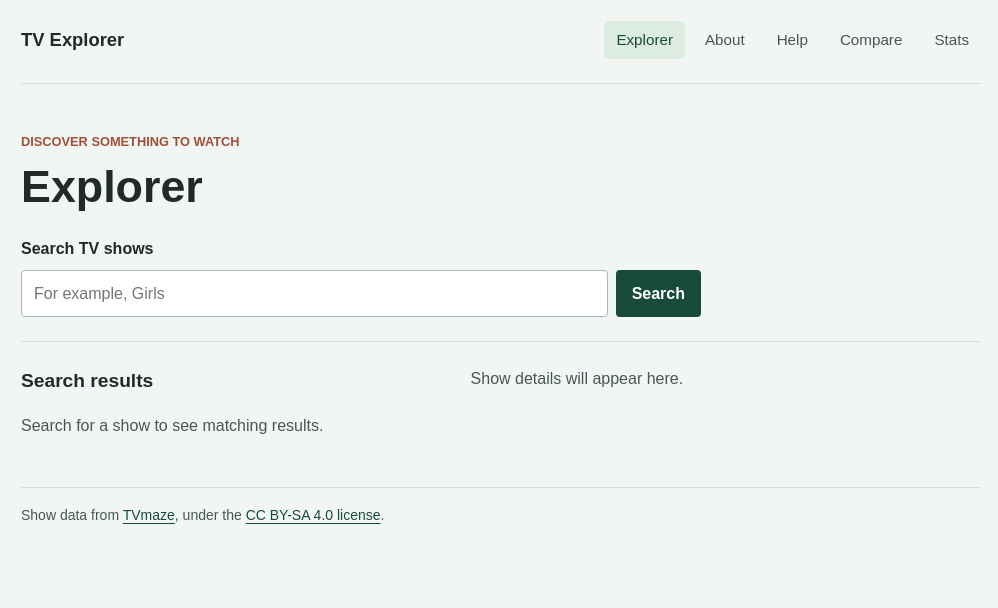
Test case: app navigation › keeps the query and results when navigating to About and back without another request
Type "girls" into the search field labelled "Search TV shows" at (314, 294), box top-left (21, 270), bottom-right (608, 318)
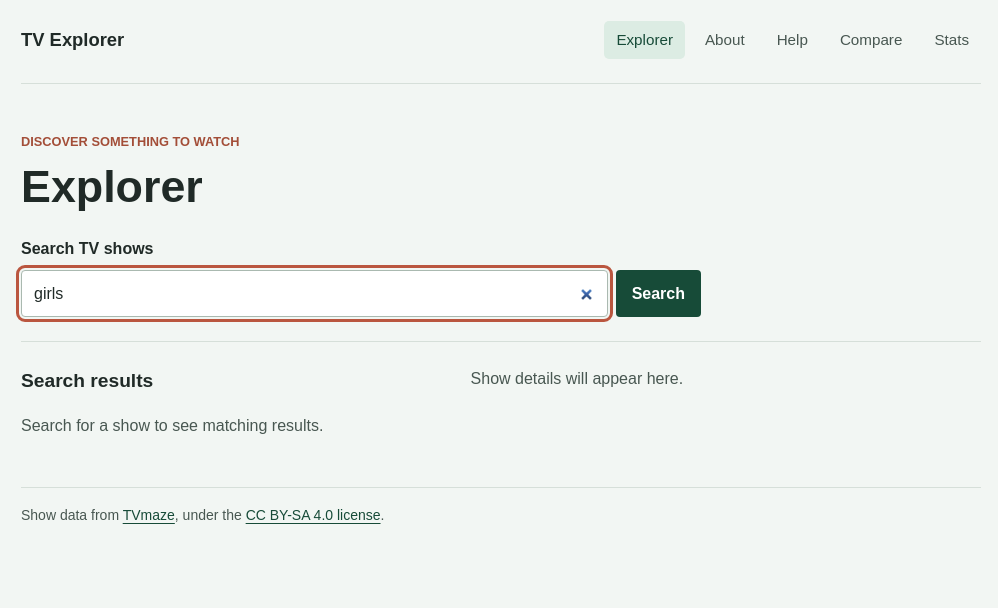
Click the button "Search" at (658, 294), box top-left (616, 270), bottom-right (701, 318)
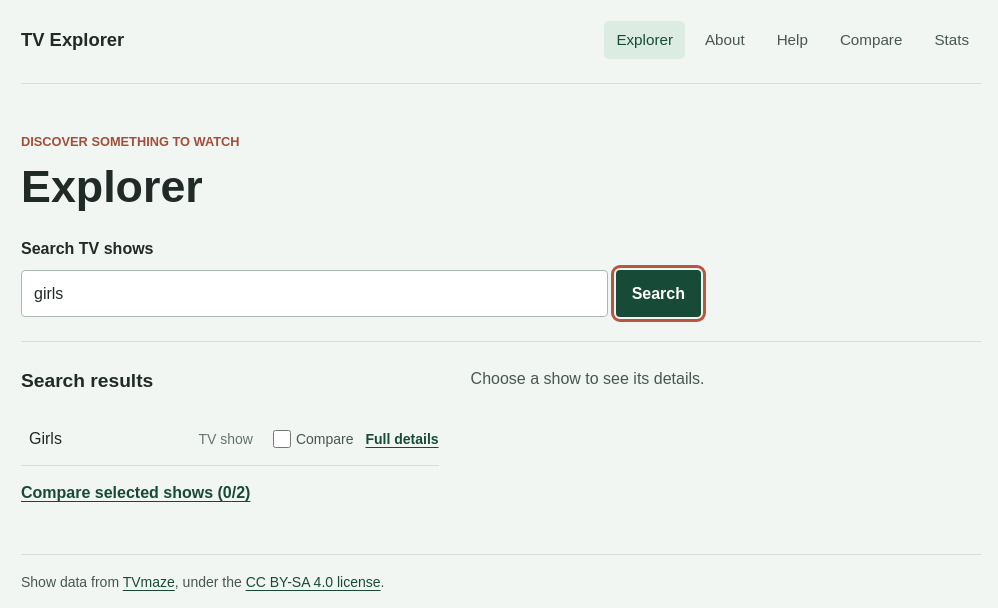
Check: the button "Girls TV show" is shown, box top-left (21, 413), bottom-right (261, 465)
Click the link "About" at (725, 40), box top-left (705, 31), bottom-right (745, 48)
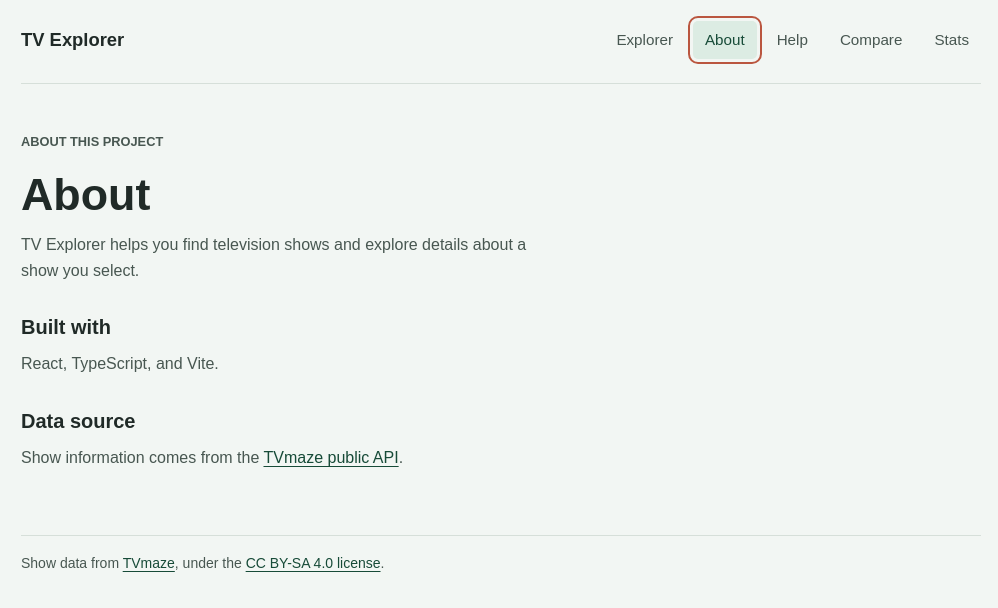
Click the link "Explorer" at (645, 40), box top-left (616, 31), bottom-right (673, 48)
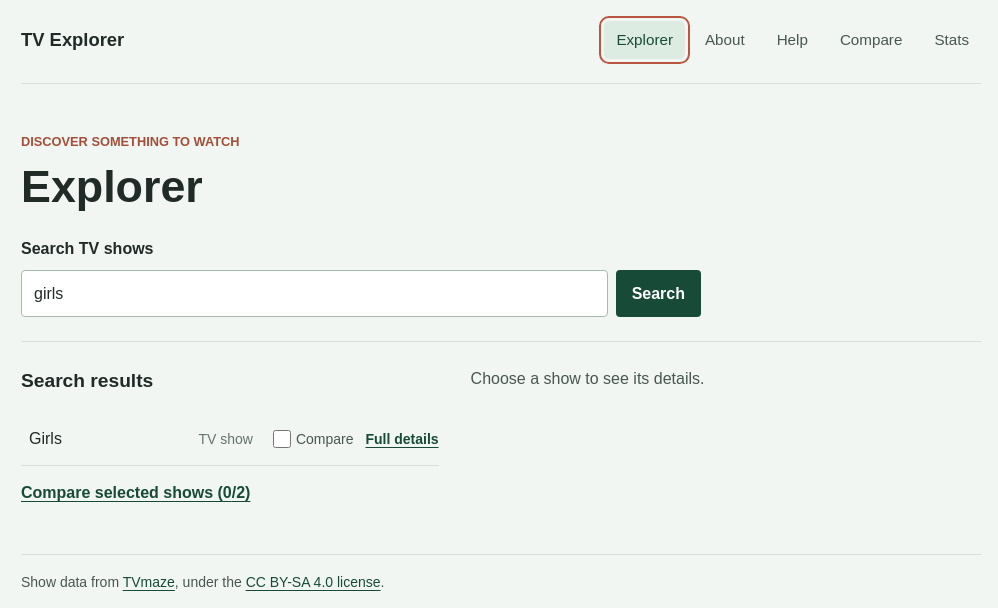
Check: the search field labelled "Search TV shows" holds "girls", box top-left (21, 270), bottom-right (608, 318)
Check: the button "Girls TV show" is shown, box top-left (21, 413), bottom-right (261, 465)
